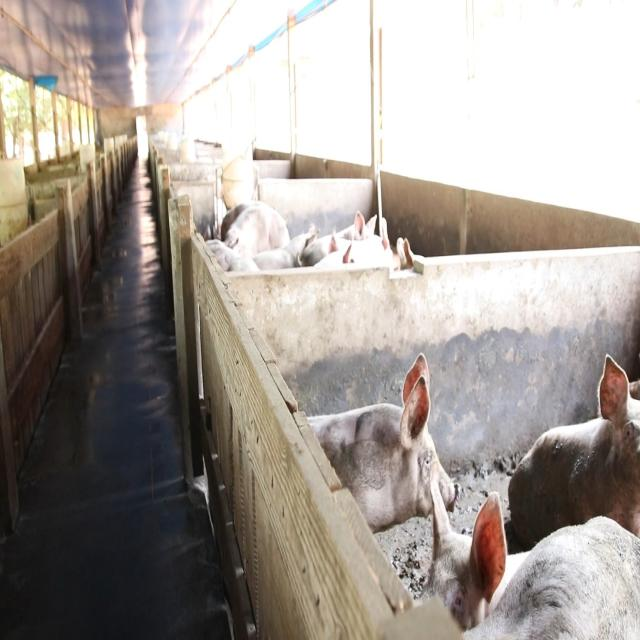pig: (290, 342, 473, 530)
